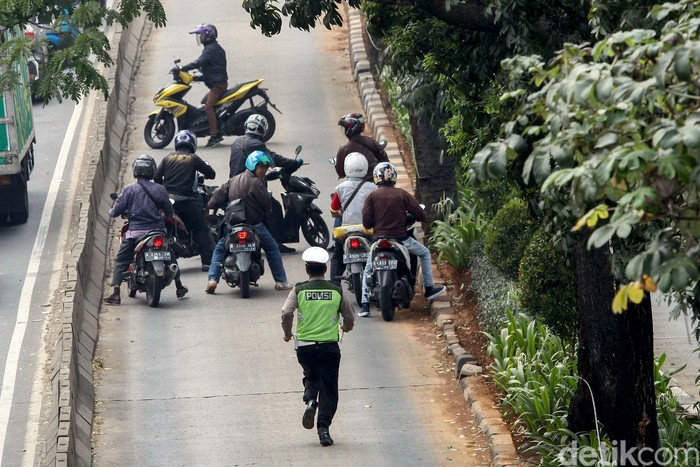motorbike: (225, 119, 333, 259), (152, 28, 272, 136), (109, 160, 182, 312), (212, 155, 289, 297), (153, 133, 220, 272), (368, 160, 423, 318), (329, 151, 378, 302), (337, 114, 392, 233)
